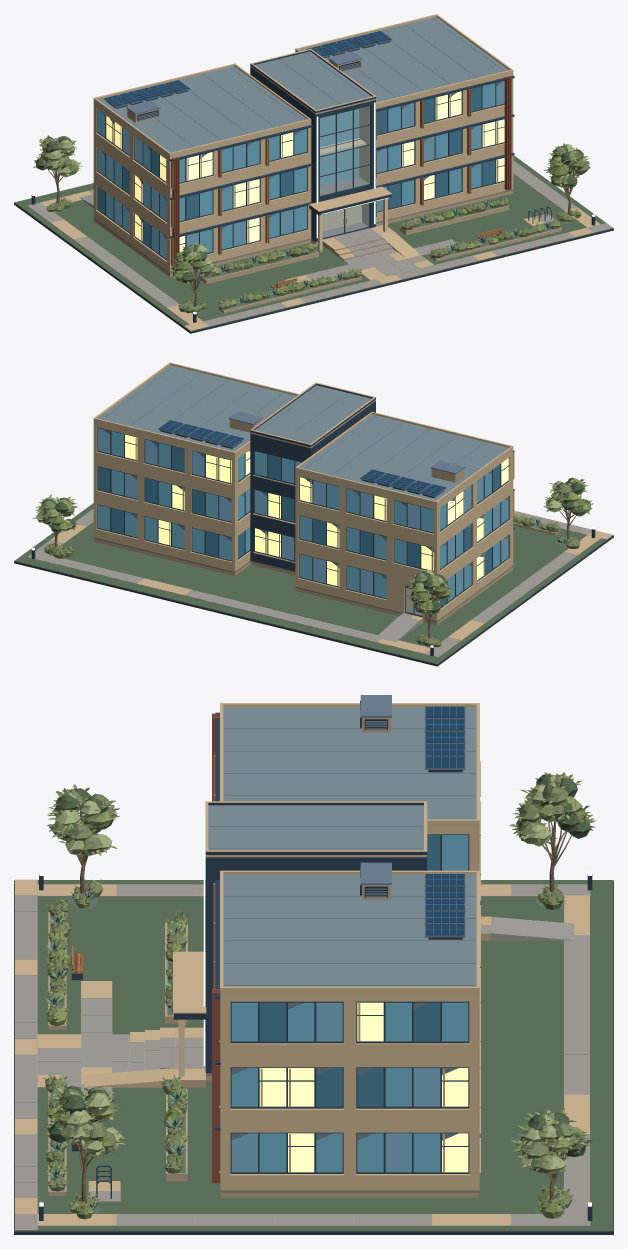
Rendered from escuela_secundaria.fbx.
3 renders of one model, top to bottom at view 1: azimuth 30°, elevation 25°; view 2: azimuth 150°, elevation 25°; view 3: azimuth 270°, elevation 25°, orthographic. The views are drawn at different scales.
Visible parts, largest first — view 1: Marquesinas, Muros, Acristalamiento opaco, Islas de plantacion, Senderos y explanadas, Marcos y lamas, Remates minerales, Setos y herbaceas, Cristales transparentes, Piedra y bordillos, Equipamiento de fachada, Arbol 23 (+3 smaller); view 2: Muros, Marquesinas, Acristalamiento opaco, Islas de plantacion, Senderos y explanadas, Marcos y lamas, Remates minerales, Equipamiento de fachada, Piedra y bordillos, Arbol 23, Arbol 25, Arbol 24 (+1 smaller); view 3: Islas de plantacion, Marquesinas, Senderos y explanadas, Muros, Acristalamiento opaco, Marcos y lamas, Setos y herbaceas, Equipamiento de fachada, Remates minerales, Piedra y bordillos, Arbol 23, Arbol 26 (+3 smaller).
Part boxes in pixels (x1=…): Marquesinas: x1=93, y1=14, x2=513, y2=215; Muros: x1=93, y1=67, x2=513, y2=272; Acristalamiento opaco: x1=98, y1=80, x2=504, y2=258; Islas de plantacion: x1=14, y1=155, x2=613, y2=331; Senderos y explanadas: x1=27, y1=160, x2=612, y2=330; Marcos y lamas: x1=97, y1=61, x2=511, y2=269; Remates minerales: x1=93, y1=75, x2=514, y2=276; Setos y herbaceas: x1=46, y1=196, x2=580, y2=313; Cristales transparentes: x1=320, y1=106, x2=369, y2=237; Piedra y bordillos: x1=14, y1=203, x2=613, y2=333; Equipamiento de fachada: x1=104, y1=31, x2=392, y2=155; Arbol 23: x1=33, y1=135, x2=83, y2=204; Muros: x1=93, y1=401, x2=513, y2=620; Marquesinas: x1=93, y1=362, x2=513, y2=505; Acristalamiento opaco: x1=98, y1=428, x2=508, y2=606; Islas de plantacion: x1=14, y1=503, x2=613, y2=664; Senderos y explanadas: x1=27, y1=508, x2=612, y2=657; Marcos y lamas: x1=97, y1=427, x2=509, y2=616; Remates minerales: x1=93, y1=450, x2=514, y2=625; Equipamiento de fachada: x1=158, y1=411, x2=464, y2=497; Piedra y bordillos: x1=14, y1=522, x2=613, y2=666; Arbol 23: x1=406, y1=568, x2=452, y2=638; Arbol 25: x1=543, y1=477, x2=593, y2=539; Arbol 24: x1=32, y1=494, x2=78, y2=546; Islas de plantacion: x1=14, y1=880, x2=613, y2=1231; Marquesinas: x1=173, y1=703, x2=479, y2=1019; Senderos y explanadas: x1=15, y1=879, x2=590, y2=1230; Muros: x1=205, y1=826, x2=479, y2=1190; Acristalamiento opaco: x1=231, y1=835, x2=468, y2=1172; Marcos y lamas: x1=203, y1=700, x2=469, y2=1183; Setos y herbaceas: x1=42, y1=879, x2=574, y2=1219; Equipamiento de fachada: x1=360, y1=695, x2=465, y2=939; Remates minerales: x1=178, y1=712, x2=480, y2=1197; Piedra y bordillos: x1=14, y1=880, x2=613, y2=1234; Arbol 23: x1=509, y1=772, x2=596, y2=891; Arbol 26: x1=44, y1=1086, x2=126, y2=1203.
Size of the model in its own units: 36 by 11.14 by 26.
